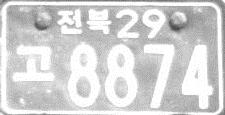2: (115, 7, 140, 40)
4: (179, 42, 214, 110)
7: (142, 42, 176, 110)
8: (103, 42, 139, 108), (66, 41, 101, 108)
9: (141, 7, 166, 39)
고: (11, 43, 56, 83)
전북_O: (56, 8, 112, 35)
